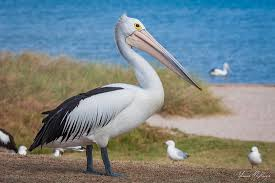pelican: (28, 14, 203, 176)
